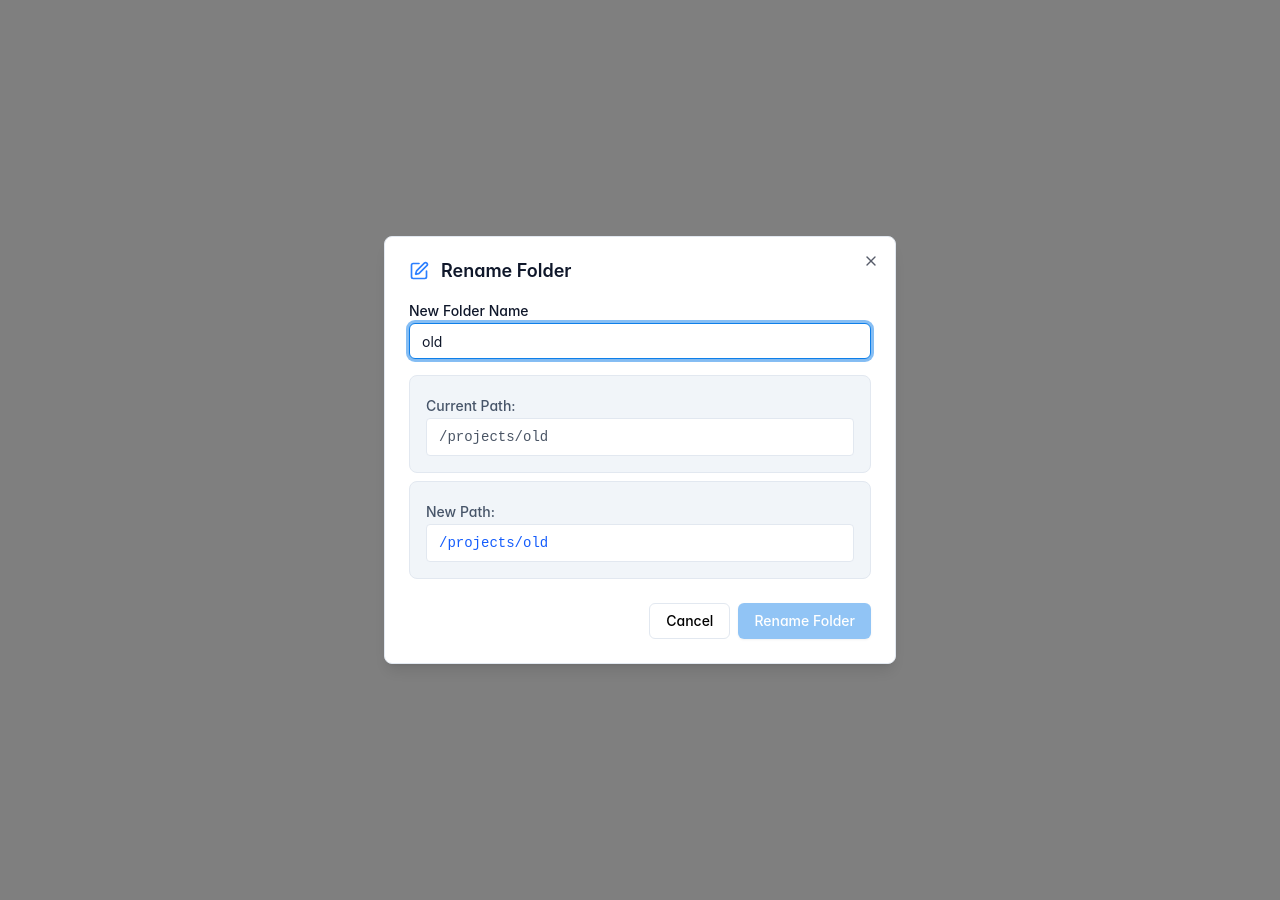
Test: RenameFolderModal › shows the error when renaming fails
The width and height of the screenshot is (1280, 900).
Replace the text in the field with test id "folder-name" with "taken" at (640, 341), box [409,323,871,359]
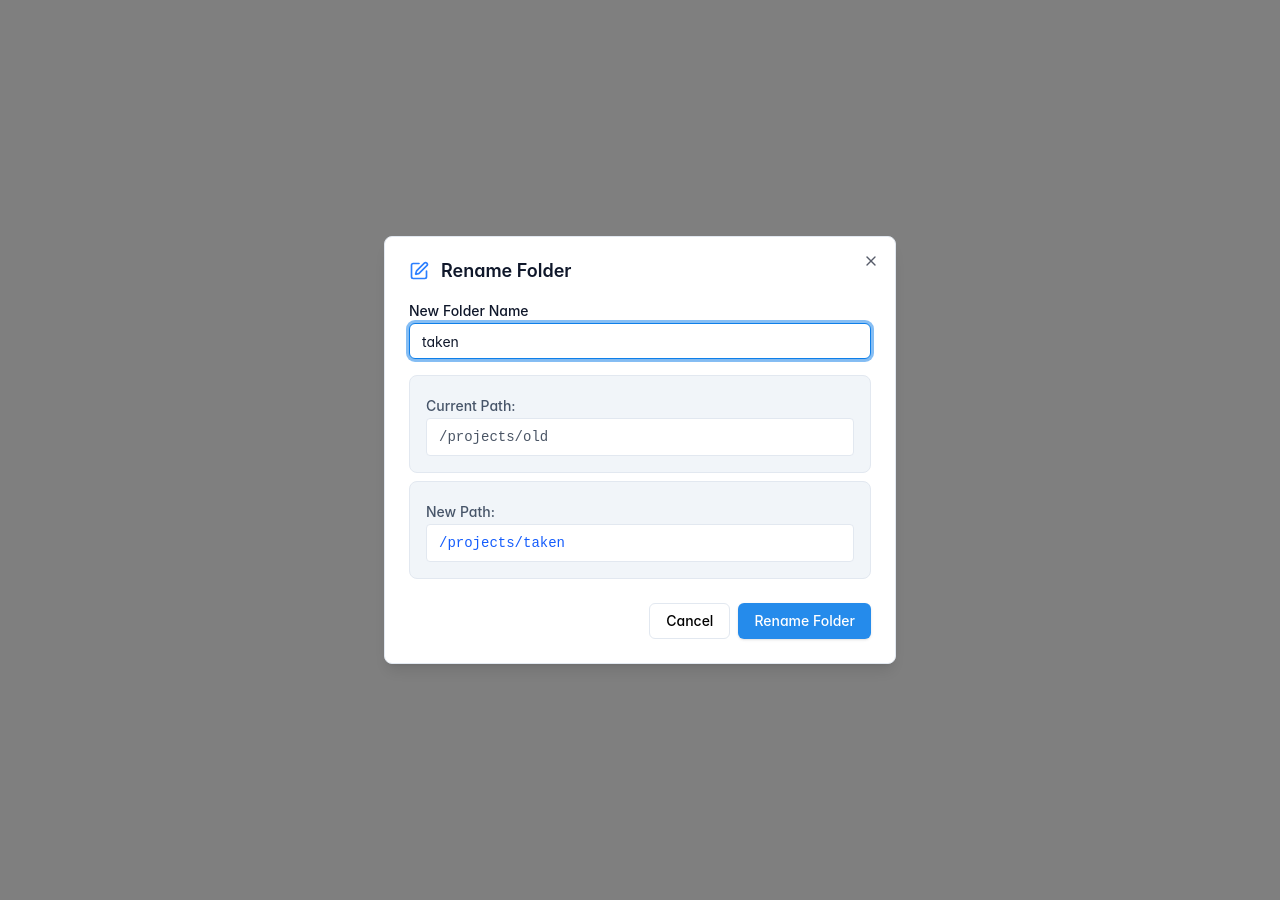
Click the button with test id "rename-folder-btn" at (805, 621), box [738,603,871,639]
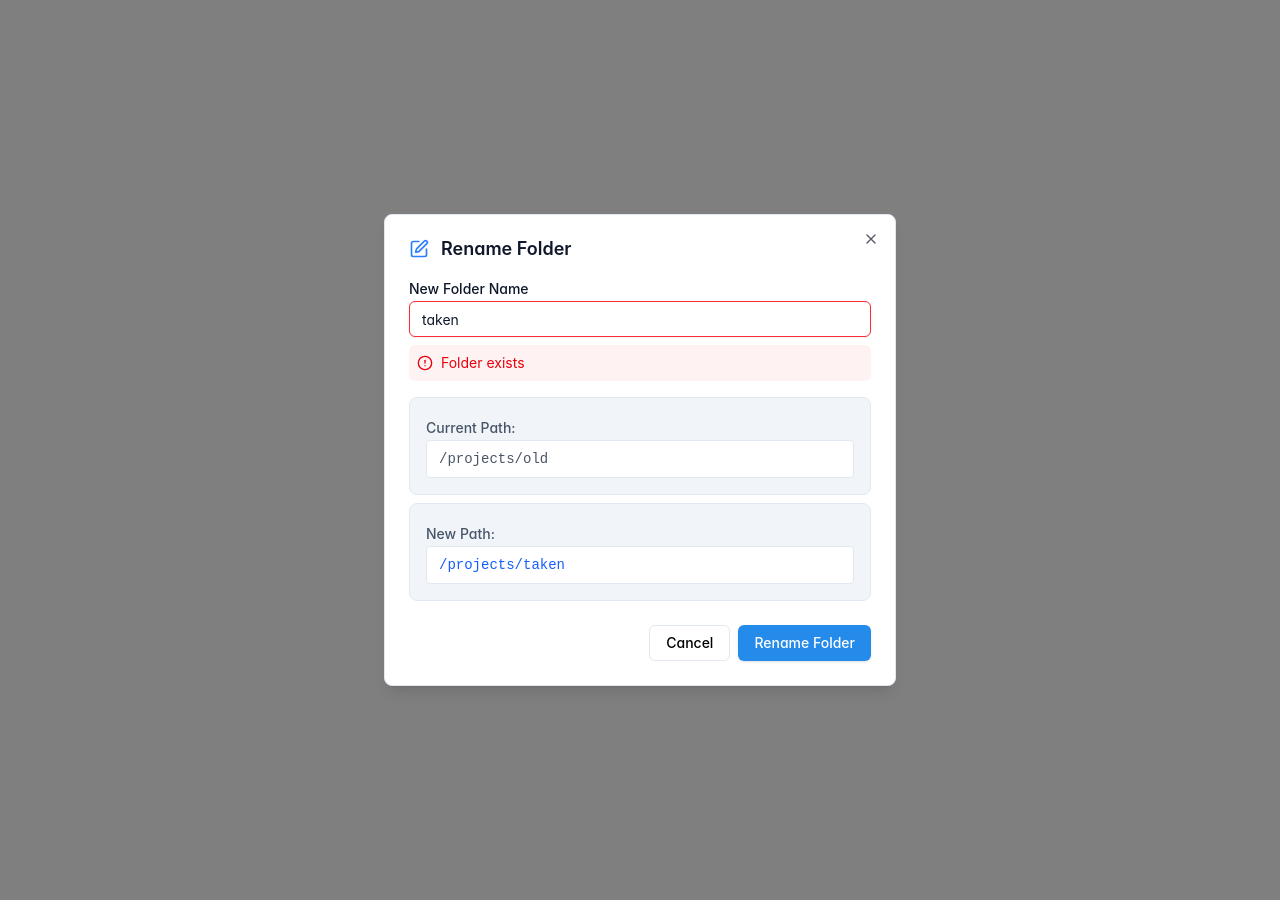
Now the text "Folder exists" is shown, box [409,345,871,381]
